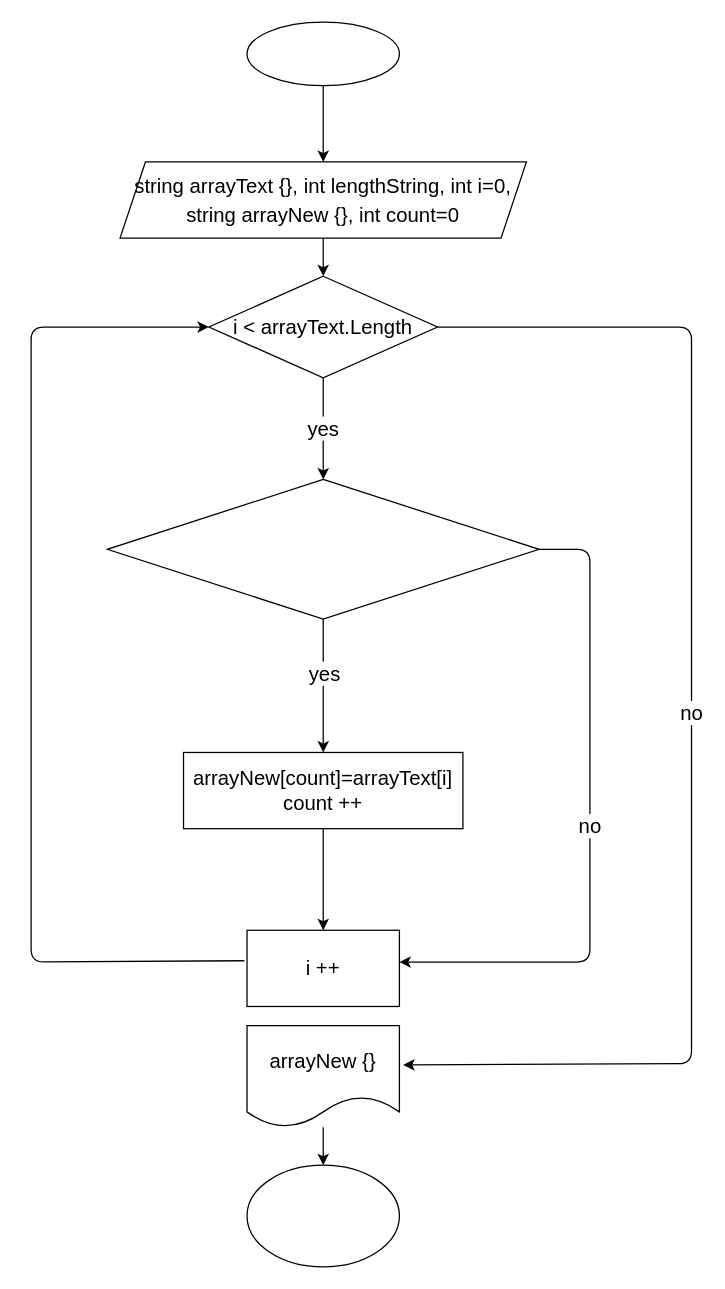
The diagram is 725 pixels wide and 1289 high, and some of its shapes have lost their labels. The shapes that lost their labels are listed below. From the top down, each one's centre as x and y in pixels, then its label:
point (322, 53): start
point (322, 548): arrayText[i].Length < lengthString+1
point (322, 1215): end
